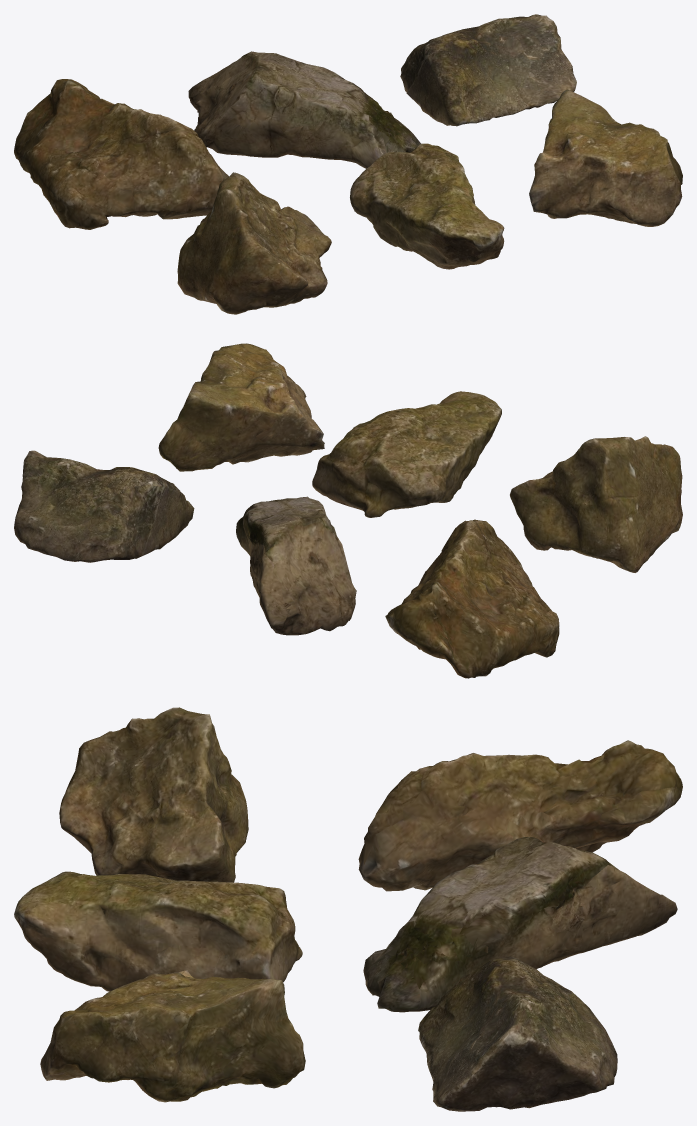
File: prop_rock_moss_a.glb
3 renders of one model, top to bottom at view 1: azimuth 30°, elevation 25°; view 2: azimuth 150°, elevation 25°; view 3: azimuth 270°, elevation 25°, orthographic. The views are drawn at different scales.
Parts seen in each view (by area): view 1: rock_moss_set_01_rock01, rock_moss_set_01_rock02, rock_moss_set_01_rock06, rock_moss_set_01_rock04, rock_moss_set_01_rock03, rock_moss_set_01_rock05; view 2: rock_moss_set_01_rock04, rock_moss_set_01_rock01, rock_moss_set_01_rock05, rock_moss_set_01_rock03, rock_moss_set_01_rock06, rock_moss_set_01_rock02; view 3: rock_moss_set_01_rock01, rock_moss_set_01_rock02, rock_moss_set_01_rock05, rock_moss_set_01_rock06, rock_moss_set_01_rock04, rock_moss_set_01_rock03.
Part boxes in pixels (x1,y1,x2,y2): rock_moss_set_01_rock01: (14,79,228,229); rock_moss_set_01_rock02: (188,51,420,168); rock_moss_set_01_rock06: (529,89,682,226); rock_moss_set_01_rock04: (177,172,331,314); rock_moss_set_01_rock03: (400,14,576,126); rock_moss_set_01_rock05: (350,143,504,269); rock_moss_set_01_rock04: (510,436,682,572); rock_moss_set_01_rock01: (385,519,559,678); rock_moss_set_01_rock05: (312,391,501,517); rock_moss_set_01_rock03: (14,450,194,562); rock_moss_set_01_rock06: (158,343,324,471); rock_moss_set_01_rock02: (236,496,356,635); rock_moss_set_01_rock01: (358,740,682,891); rock_moss_set_01_rock02: (363,837,677,1012); rock_moss_set_01_rock05: (14,871,302,991); rock_moss_set_01_rock06: (40,970,305,1102); rock_moss_set_01_rock04: (59,707,248,882); rock_moss_set_01_rock03: (418,956,617,1111).
Size of the model in its own units: 8 by 1.77 by 6.95.
Materials: 1 (1 with a texture image).
